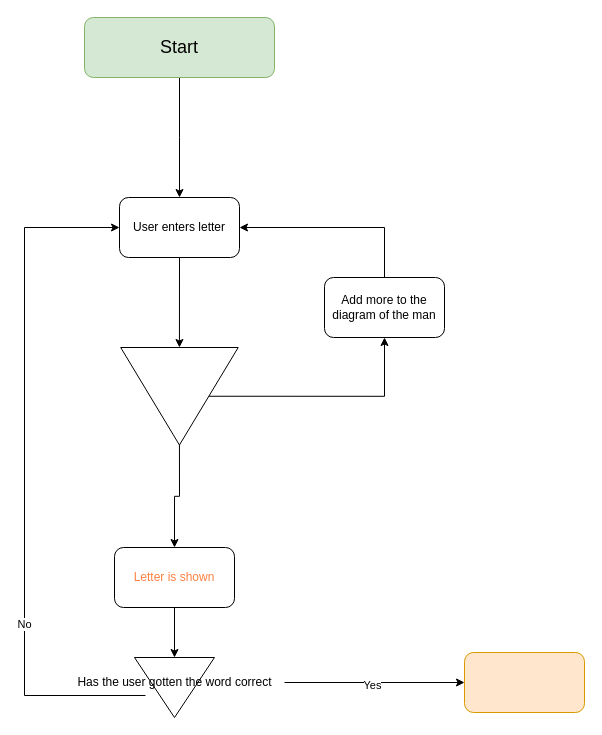
Some shapes in this 602 by 735 pixel diagram are drawn without their labels. The box of each missing label's shape, as (x1, y1, x2, y2) in pixels:
End: (464, 652, 584, 712)
Is the letter correct: (120, 346, 238, 445)
